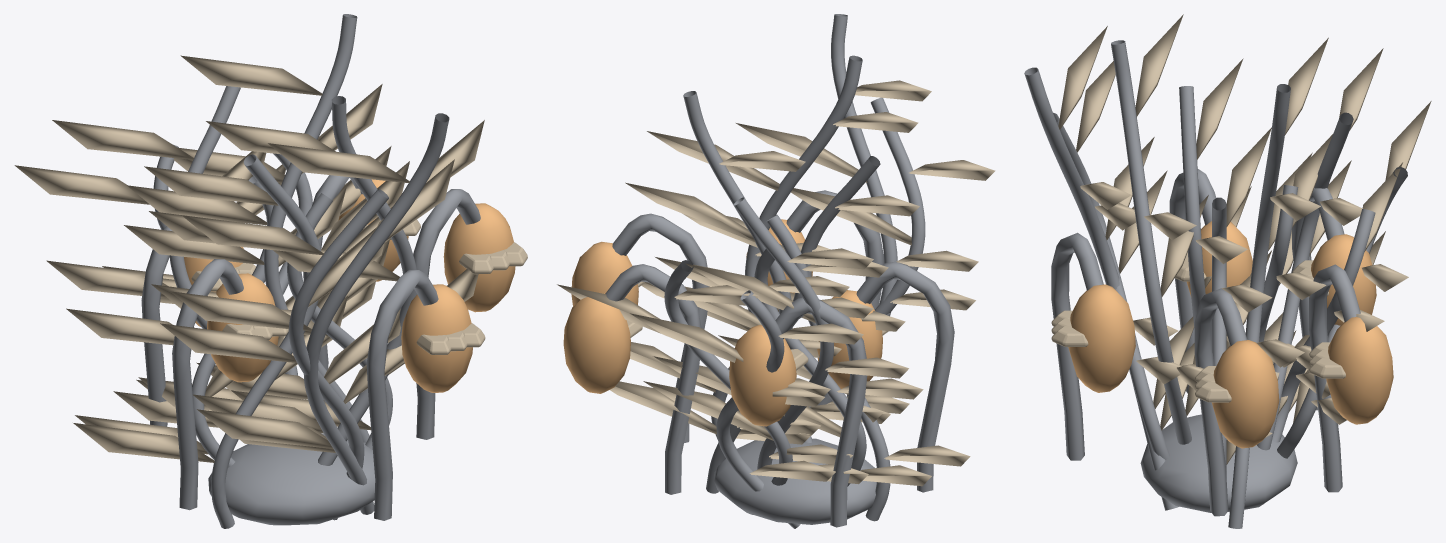
The model's file is bio_aquatic_frond_18_far.glb.
3 views of the same model, side by side, from view 1: azimuth 30°, elevation 25°; view 2: azimuth 150°, elevation 25°; view 3: azimuth 270°, elevation 25° (orthographic). The views are drawn at different scales.
Parts seen in each view (by area): view 1: Ruffled aquatic blade.010, Holdfast, Ruffled aquatic blade.040, Ruffled aquatic blade.035, Ruffled aquatic blade.020, Ruffled aquatic blade.045, Ruffled aquatic blade.025, Flexible stipe.002, Ruffled aquatic blade.005, Arched fruit stem.002, Pendant spore capsule.002, Arched fruit stem.004 (+19 smaller); view 2: Holdfast, Ruffled aquatic blade.030, Ruffled aquatic blade.005, Pendant spore capsule.003, Arched fruit stem.004, Pendant spore capsule.001, Ruffled aquatic blade.010, Ruffled aquatic blade.045, Arched fruit stem.001, Arched fruit stem.003, Ruffled aquatic blade.015, Ruffled aquatic blade.040 (+18 smaller); view 3: Holdfast, Flexible stipe.005, Pendant spore capsule, Pendant spore capsule.002, Pendant spore capsule.003, Flexible stipe.008, Arched fruit stem.002, Arched fruit stem, Ruffled aquatic blade.010, Ruffled aquatic blade.035, Ruffled aquatic blade.025, Flexible stipe.002 (+22 smaller).
Part boxes in pixels (x1,y1,x2,y2): Ruffled aquatic blade.010: (170,143,454,448); Holdfast: (208,433,375,525); Ruffled aquatic blade.040: (124,55,389,401); Ruffled aquatic blade.035: (160,215,404,452); Ruffled aquatic blade.020: (73,161,409,462); Ruffled aquatic blade.045: (66,185,346,454); Ruffled aquatic blade.025: (193,120,484,433); Flexible stipe.002: (303,113,449,514); Ruffled aquatic blade.005: (46,120,295,410); Arched fruit stem.002: (366,269,438,520); Pendant spore capsule.002: (401,284,472,392); Arched fruit stem.004: (172,259,243,510); Holdfast: (714,438,876,524); Ruffled aquatic blade.030: (610,313,863,481); Ruffled aquatic blade.005: (653,248,908,464); Pendant spore capsule.003: (563,293,630,393); Arched fruit stem.004: (856,261,954,492); Pendant spore capsule.001: (729,325,796,426); Ruffled aquatic blade.010: (736,80,978,413); Ruffled aquatic blade.045: (685,276,931,486); Arched fruit stem.001: (775,297,867,527); Arched fruit stem.003: (605,264,701,494); Ruffled aquatic blade.015: (557,284,868,484); Ruffled aquatic blade.040: (625,151,873,435); Holdfast: (1140,414,1297,512); Flexible stipe.005: (1111,40,1191,444); Pendant spore capsule: (1211,340,1279,448); Pendant spore capsule.002: (1068,284,1135,392); Pendant spore capsule.003: (1326,317,1393,424); Flexible stipe.008: (1228,84,1290,528); Arched fruit stem.002: (1051,232,1103,460); Arched fruit stem: (1194,288,1247,516); Ruffled aquatic blade.010: (1058,26,1194,408); Ruffled aquatic blade.035: (1076,61,1194,430); Ruffled aquatic blade.025: (1135,14,1208,415); Flexible stipe.002: (1024,67,1178,510).
Bounding box in the file's own units: 1.89 × 1.89 × 1.56.
